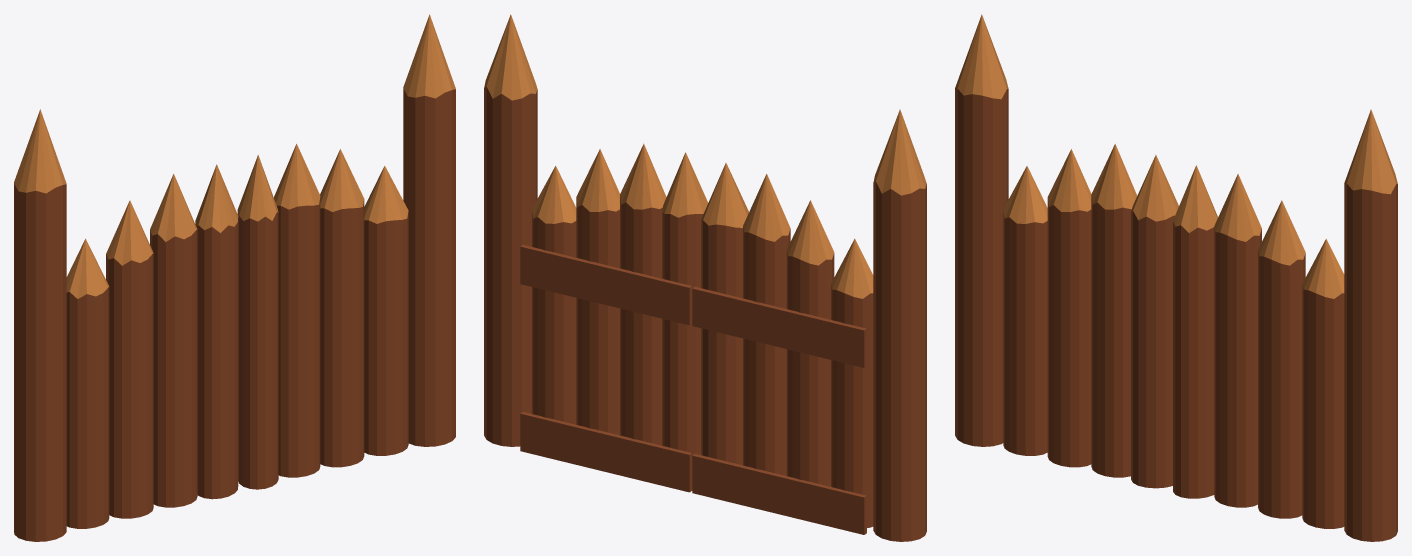
File: wooden_gate.fbx
The picture shows the model from 3 angles, left to right: view 1: azimuth 30°, elevation 25°; view 2: azimuth 150°, elevation 25°; view 3: azimuth 330°, elevation 25°; orthographic projection.
Parts seen in each view (by area): view 1: Cylinder.003; view 2: Cylinder.003; view 3: Cylinder.003.
Boxes of the visible parts, box(x1,y1,x2,y2) form: Cylinder.003: box(14, 14, 455, 541); Cylinder.003: box(484, 14, 926, 541); Cylinder.003: box(955, 14, 1397, 541).
Bounding box in the file's own units: 487 × 450 × 49.41.
